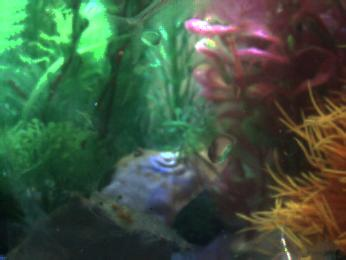X-ray fish: (299, 235, 346, 260)
glassfish: (106, 1, 197, 34)
siberian prawn: (90, 190, 195, 252)
